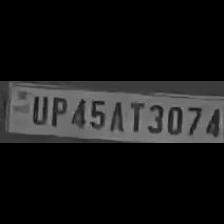0: (164, 102, 182, 136)
3: (144, 100, 164, 134)
4: (201, 104, 221, 138), (68, 96, 86, 128)
5: (86, 96, 106, 130)
7: (182, 102, 202, 136)
A: (106, 98, 126, 132)
P: (46, 94, 68, 128)
T: (124, 99, 144, 134)
U: (28, 93, 48, 126)
